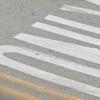Crosswalk: (4, 3, 99, 100)
